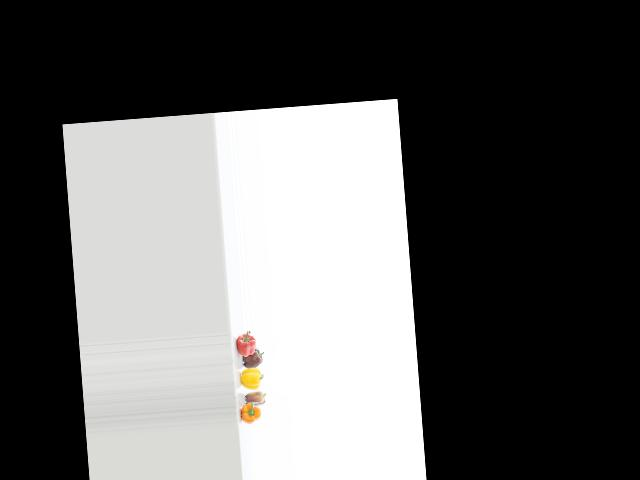bell_pepper: (237, 400, 268, 425)
